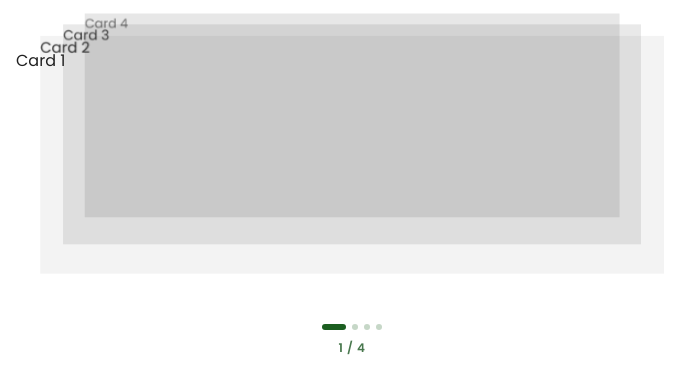
Test: CardStack (P824) › navigates to card when clicking pagination indicator pill (R7, R9)
Click the tab named "Go to reviews 2 of 4" at (355, 327), box x1=352 y1=324 x2=358 y2=330
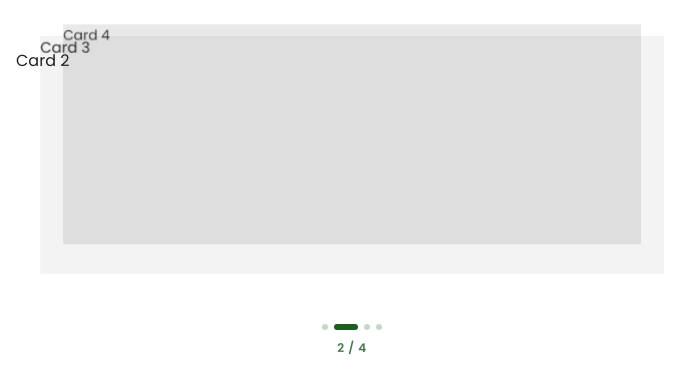
Now the text "2 / 4" is shown, box x1=337 y1=340 x2=367 y2=356
